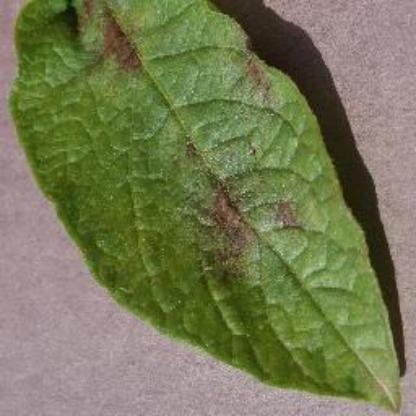Late-Blight: (10, 3, 406, 412)
